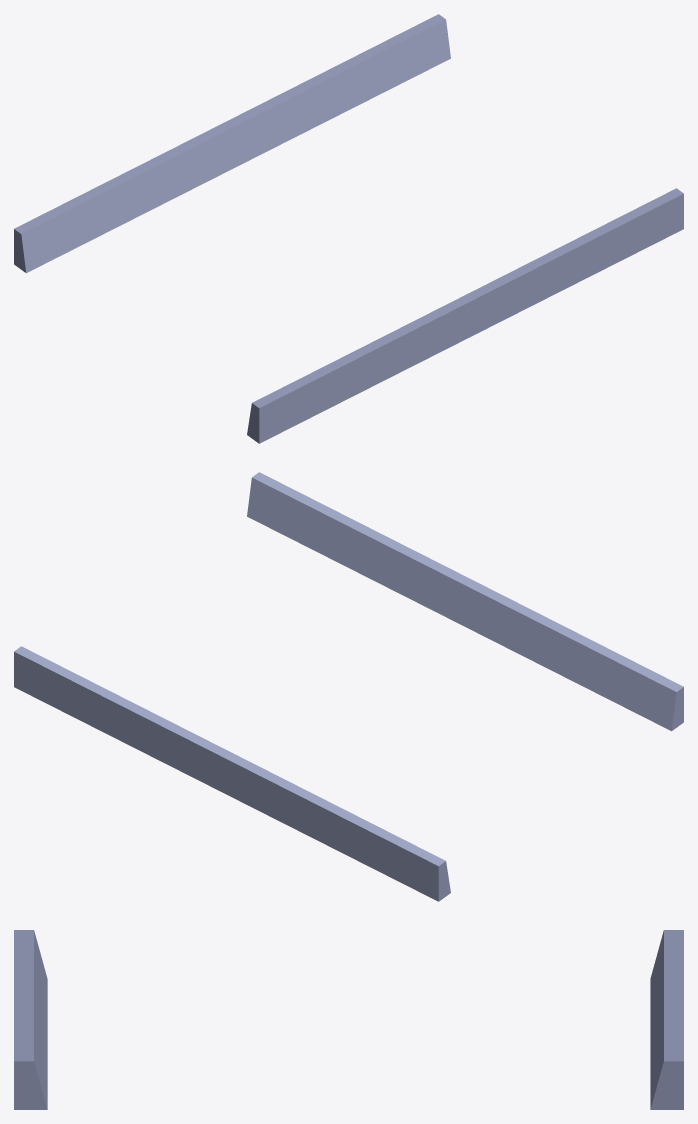
The model's file is road-slant-barrier.glb.
3 renders of one model, top to bottom at view 1: azimuth 30°, elevation 25°; view 2: azimuth 150°, elevation 25°; view 3: azimuth 270°, elevation 25°, orthographic. The views are drawn at different scales.
Visible parts, largest first — view 1: road-slant-barrier; view 2: road-slant-barrier; view 3: road-slant-barrier.
Boxes of the visible parts, box(x1,y1,x2,y2) form: road-slant-barrier: box(14, 14, 683, 443); road-slant-barrier: box(14, 472, 683, 901); road-slant-barrier: box(14, 930, 683, 1109).
Bounding box in the file's own units: 1 × 0.33 × 1.
1 material, 1 textured.
